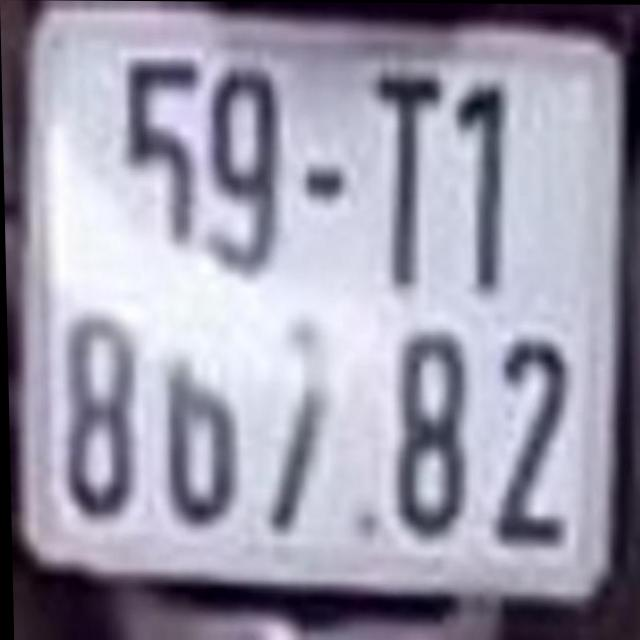1: (456, 76, 503, 285)
2: (492, 336, 574, 545)
5: (115, 50, 197, 265)
6: (166, 318, 240, 519)
7: (253, 316, 333, 524)
8: (393, 330, 465, 534), (63, 312, 130, 511)
9: (205, 69, 277, 276)
T: (379, 67, 449, 293)
